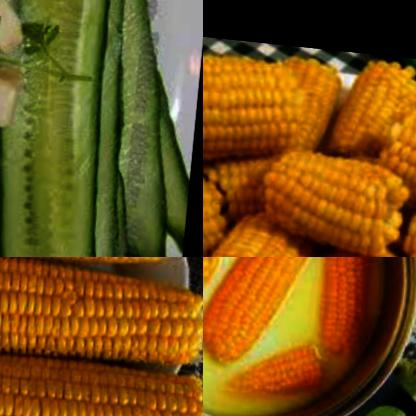corn: (0, 257, 203, 369), (265, 141, 413, 257), (0, 345, 203, 416), (203, 40, 312, 167), (203, 257, 318, 367), (325, 45, 416, 160), (225, 325, 336, 405), (203, 195, 319, 257), (314, 257, 383, 358), (203, 146, 250, 257), (373, 106, 416, 209), (203, 257, 229, 324)
cucumber: (0, 0, 135, 257), (92, 0, 203, 257), (157, 65, 203, 257)
